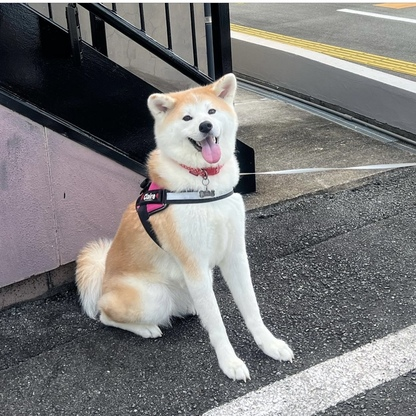akita: (69, 68, 304, 384)
